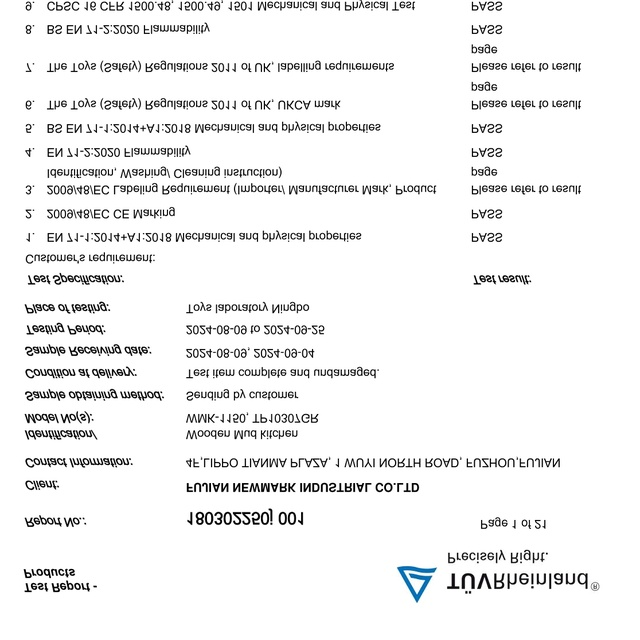tuv_rheinland: (393, 560, 606, 608)
